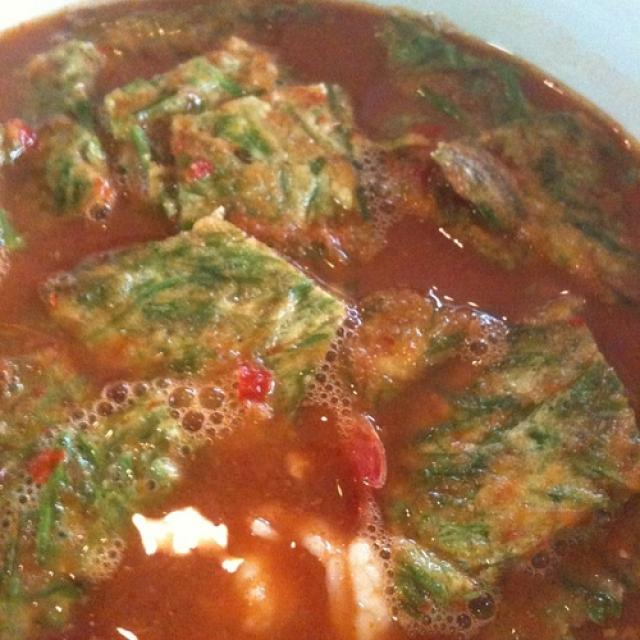汤锅炖物: (19, 18, 608, 616)
